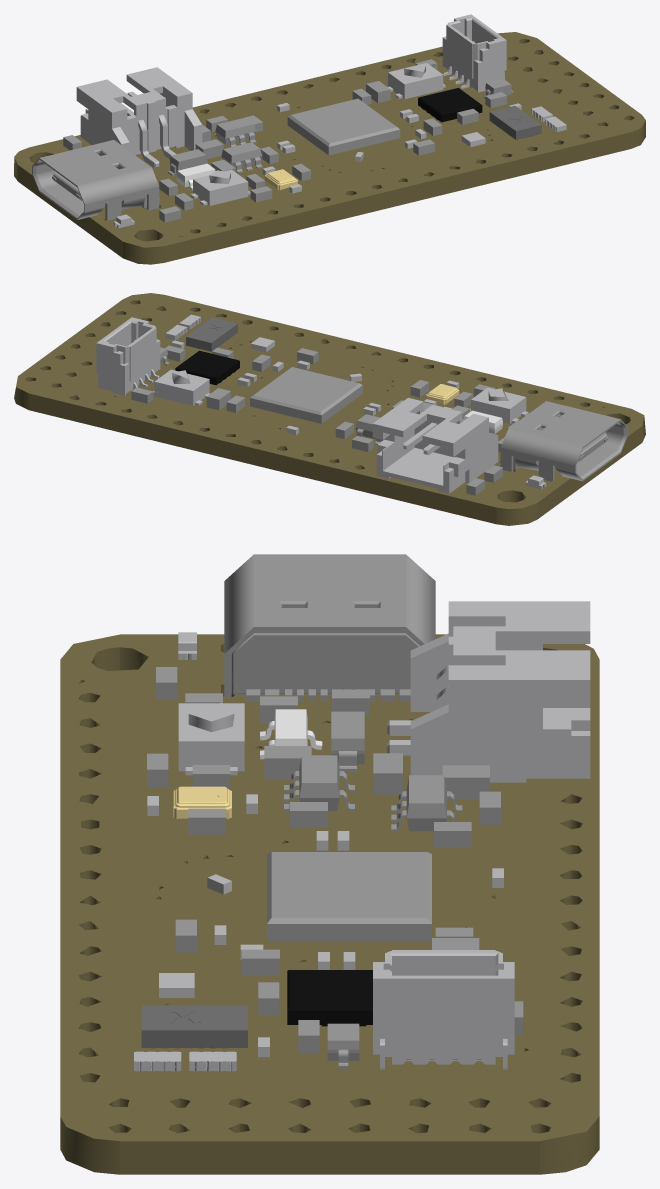
The model's file is ada-5650.glb.
The picture shows the model from 3 angles, top to bottom: view 1: azimuth 30°, elevation 25°; view 2: azimuth 150°, elevation 25°; view 3: azimuth 270°, elevation 25°; orthographic projection. The views are drawn at different scales.
Parts seen in each view (by area): view 1: 0.16666666666666666_0.16666666666666666_0.08333333333333333_, 0.3333333333333333_0.3333333333333333_0.3333333333333333_0, 0.5833333333333334_0.5833333333333334_0.5833333333333334_0.8, 0_0_0_0, 0.16666666666666666_0.16666666666666666_0.16666666666666666_, 0.9166666666666666_0.9166666666666666_0.9166666666666666_0.8, 0.9166666666666666_0.75_0.3333333333333333_0.9; view 2: 0.16666666666666666_0.16666666666666666_0.08333333333333333_, 0.5833333333333334_0.5833333333333334_0.5833333333333334_0.8, 0.3333333333333333_0.3333333333333333_0.3333333333333333_0, 0_0_0_0, 0.16666666666666666_0.16666666666666666_0.16666666666666666_, 0.9166666666666666_0.75_0.3333333333333333_0.9; view 3: 0.16666666666666666_0.16666666666666666_0.08333333333333333_, 0.3333333333333333_0.3333333333333333_0.3333333333333333_0, 0.5833333333333334_0.5833333333333334_0.5833333333333334_0.8, 0.16666666666666666_0.16666666666666666_0.16666666666666666_, 0_0_0_0, 0.9166666666666666_0.9166666666666666_0.9166666666666666_0.8, 0.9166666666666666_0.75_0.3333333333333333_0.9.
Part boxes in pixels (box(x1,y1,x2,y2)): 0.16666666666666666_0.16666666666666666_0.08333333333333333_: box(14, 32, 645, 264); 0.3333333333333333_0.3333333333333333_0.3333333333333333_0: box(32, 59, 513, 222); 0.5833333333333334_0.5833333333333334_0.5833333333333334_0.8: box(54, 14, 566, 228); 0_0_0_0: box(418, 88, 482, 122); 0.16666666666666666_0.16666666666666666_0.16666666666666666_: box(489, 105, 541, 139); 0.9166666666666666_0.9166666666666666_0.9166666666666666_0.8: box(176, 163, 215, 190); 0.9166666666666666_0.75_0.3333333333333333_0.9: box(264, 169, 297, 190); 0.16666666666666666_0.16666666666666666_0.08333333333333333_: box(14, 293, 645, 525); 0.5833333333333334_0.5833333333333334_0.5833333333333334_0.8: box(96, 314, 605, 493); 0.3333333333333333_0.3333333333333333_0.3333333333333333_0: box(131, 345, 628, 495); 0_0_0_0: box(175, 350, 239, 385); 0.16666666666666666_0.16666666666666666_0.16666666666666666_: box(186, 317, 237, 351); 0.9166666666666666_0.75_0.3333333333333333_0.9: box(425, 384, 459, 404); 0.16666666666666666_0.16666666666666666_0.08333333333333333_: box(60, 634, 599, 1174); 0.3333333333333333_0.3333333333333333_0.3333333333333333_0: box(147, 554, 523, 1068); 0.5833333333333334_0.5833333333333334_0.5833333333333334_0.8: box(134, 601, 590, 1071); 0.16666666666666666_0.16666666666666666_0.16666666666666666_: box(141, 1005, 247, 1048); 0_0_0_0: box(287, 970, 372, 1026); 0.9166666666666666_0.9166666666666666_0.9166666666666666_0.8: box(260, 709, 322, 759); 0.9166666666666666_0.75_0.3333333333333333_0.9: box(173, 786, 231, 819).
Bounding box in the file's own units: 5.2 × 0.6368 × 2.29.
